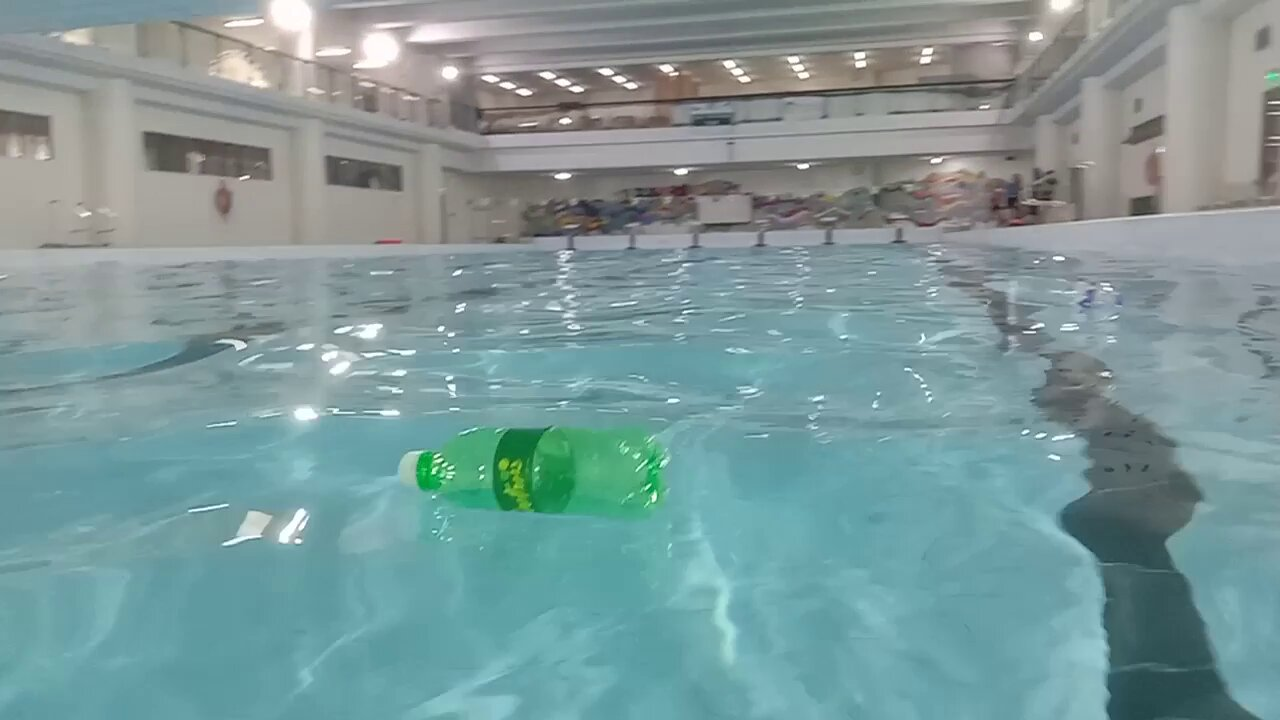plastic_bottle: (397, 427, 666, 516), (1005, 274, 1129, 314)
